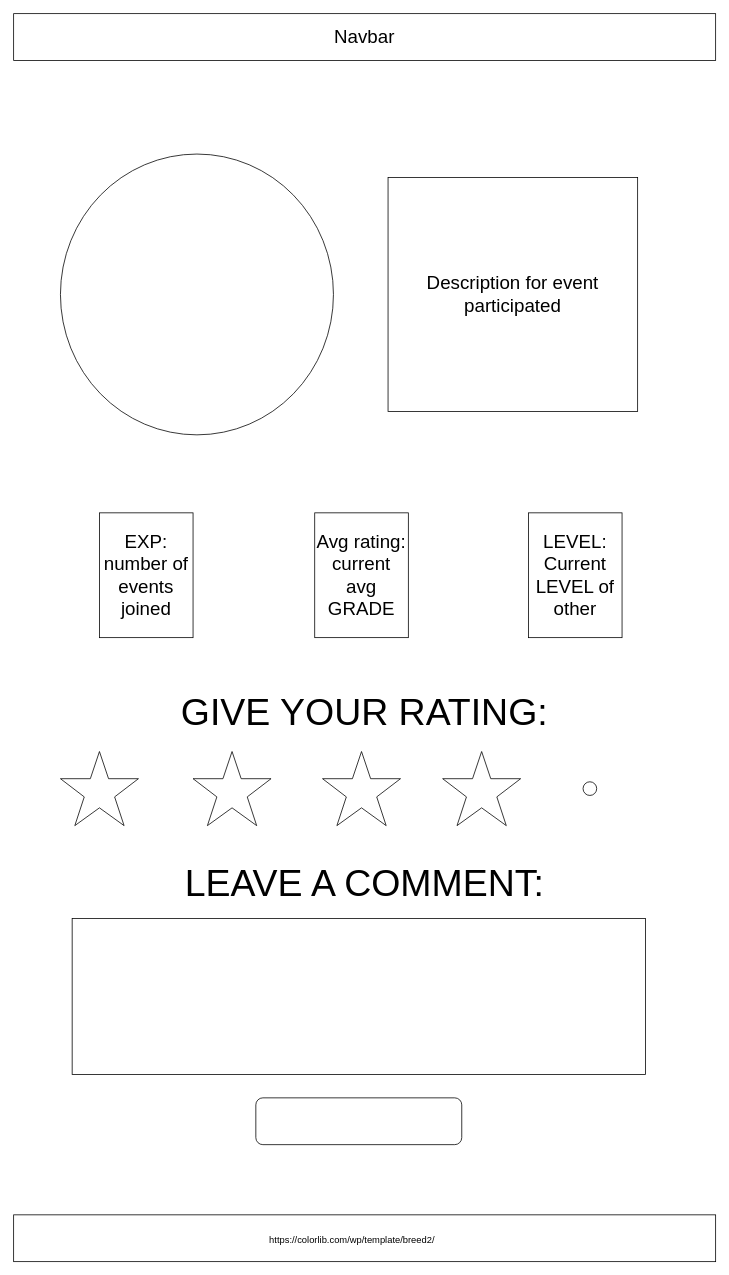
The diagram is 729 pixels wide and 1275 high, and some of its shapes have lost their labels. The shapes that lost their labels are listed below. From the top down, each one's centre as x and y in pixels, then its label:
(x=196, y=294): Photo of other
(x=358, y=996): TEXT AREA
(x=358, y=1121): SUBMIT
